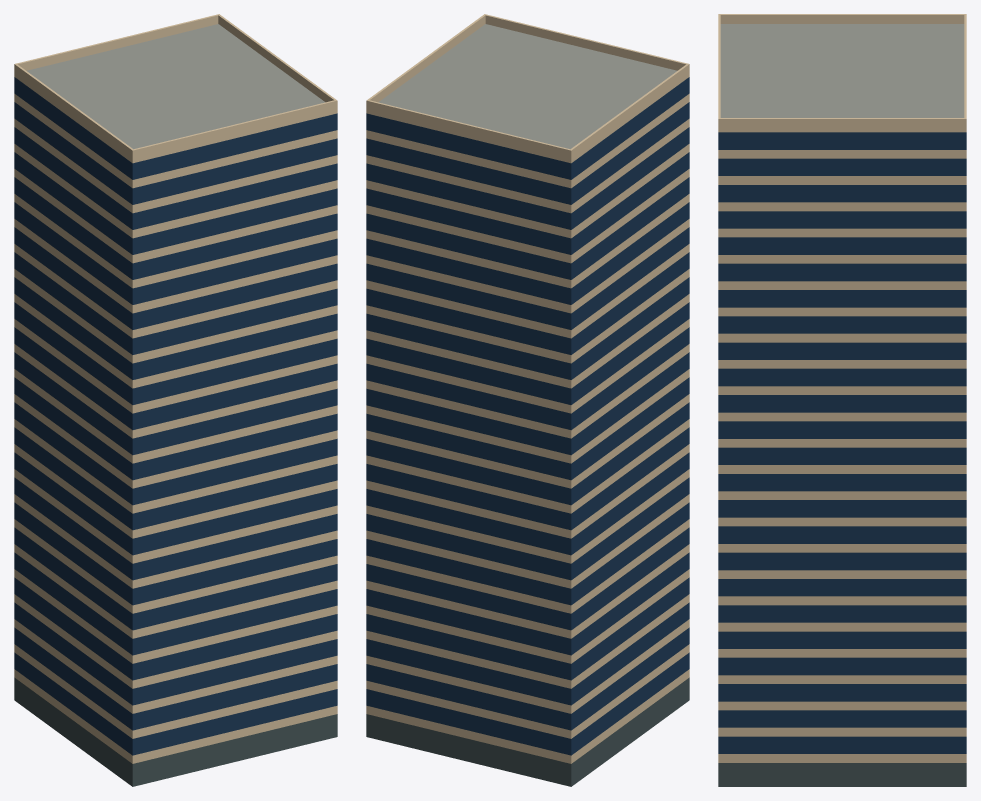
The model's file is far.fbx.
3 views of the same model, side by side, from view 1: azimuth 30°, elevation 25°; view 2: azimuth 150°, elevation 25°; view 3: azimuth 270°, elevation 25° (orthographic). The views are drawn at different scales.
Parts seen in each view (by area): view 1: a2012/400/far; view 2: a2012/400/far; view 3: a2012/400/far.
Part boxes in pixels (left/top/right/bottom): a2012/400/far: left=14, top=14, right=337, bottom=786; a2012/400/far: left=366, top=14, right=689, bottom=786; a2012/400/far: left=718, top=14, right=966, bottom=786.
Size of the model in its own units: 30 by 89 by 30.
